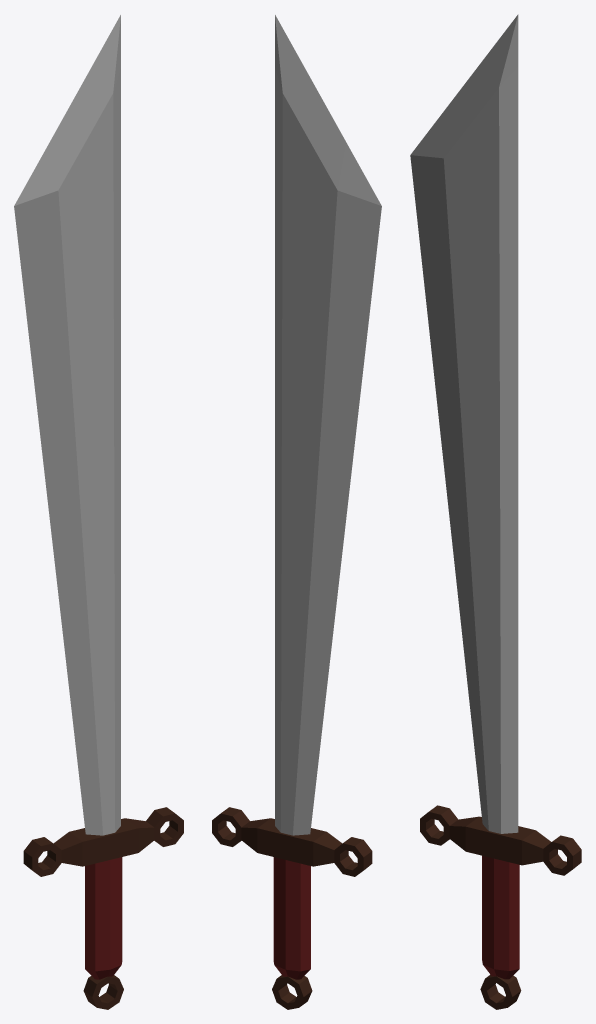
Rendered from Sword3.fbx.
The picture shows the model from 3 angles, left to right: view 1: azimuth 30°, elevation 25°; view 2: azimuth 150°, elevation 25°; view 3: azimuth 330°, elevation 25°; orthographic projection.
Visible parts, largest first — view 1: Cube.001, Cube, Cylinder.002; view 2: Cube.001, Cube, Cylinder.002; view 3: Cube.001, Cube, Cylinder.002.
Part boxes in pixels (<box>): Cube.001: <box>14,15,120,835</box>; Cube: <box>23,807,183,1009</box>; Cylinder.002: <box>85,857,122,979</box>; Cube.001: <box>275,15,381,835</box>; Cube: <box>212,807,372,1009</box>; Cylinder.002: <box>273,857,310,979</box>; Cube.001: <box>410,14,518,833</box>; Cube: <box>420,805,581,1009</box>; Cylinder.002: <box>482,855,519,979</box>.
Size of the model in its own units: 22.18 by 127 by 3.18.
